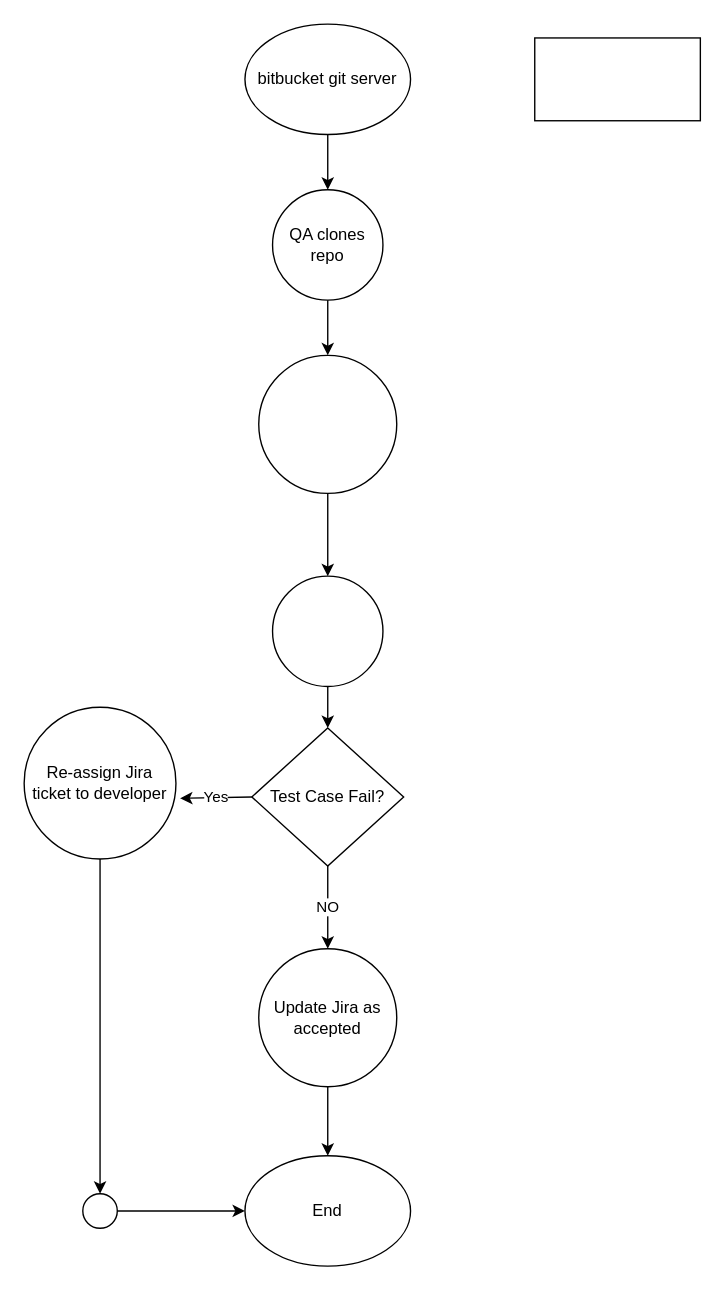
Image size: 725x1290. Some labels were removed from this diagram. The shapes that lost their labels are listed below. From the top down, each one's centre as x and y in pixels, then its label:
pixel 616 79: QA workflow
pixel 327 423: QA checks out remote branch
pixel 327 631: QA executes test cases
